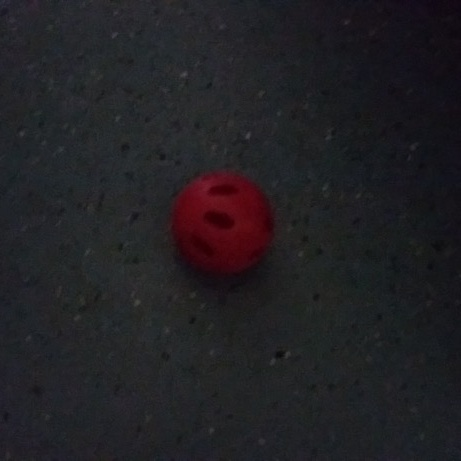redball: (164, 168, 278, 281)
